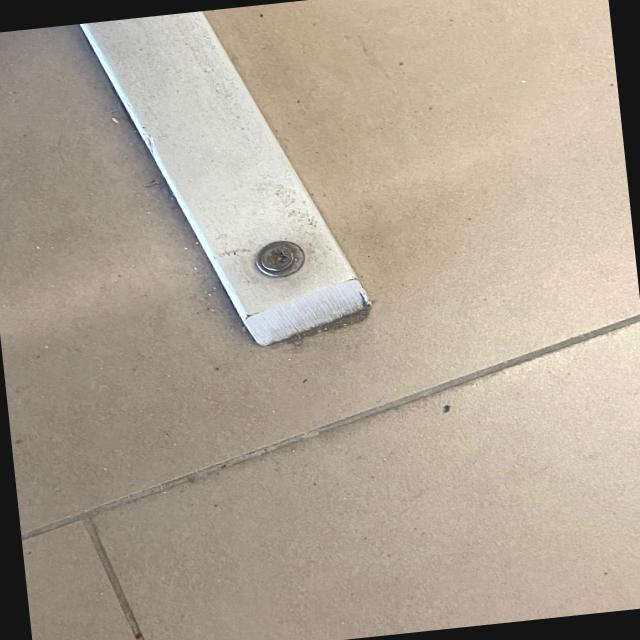Torx: (254, 242, 297, 272)
